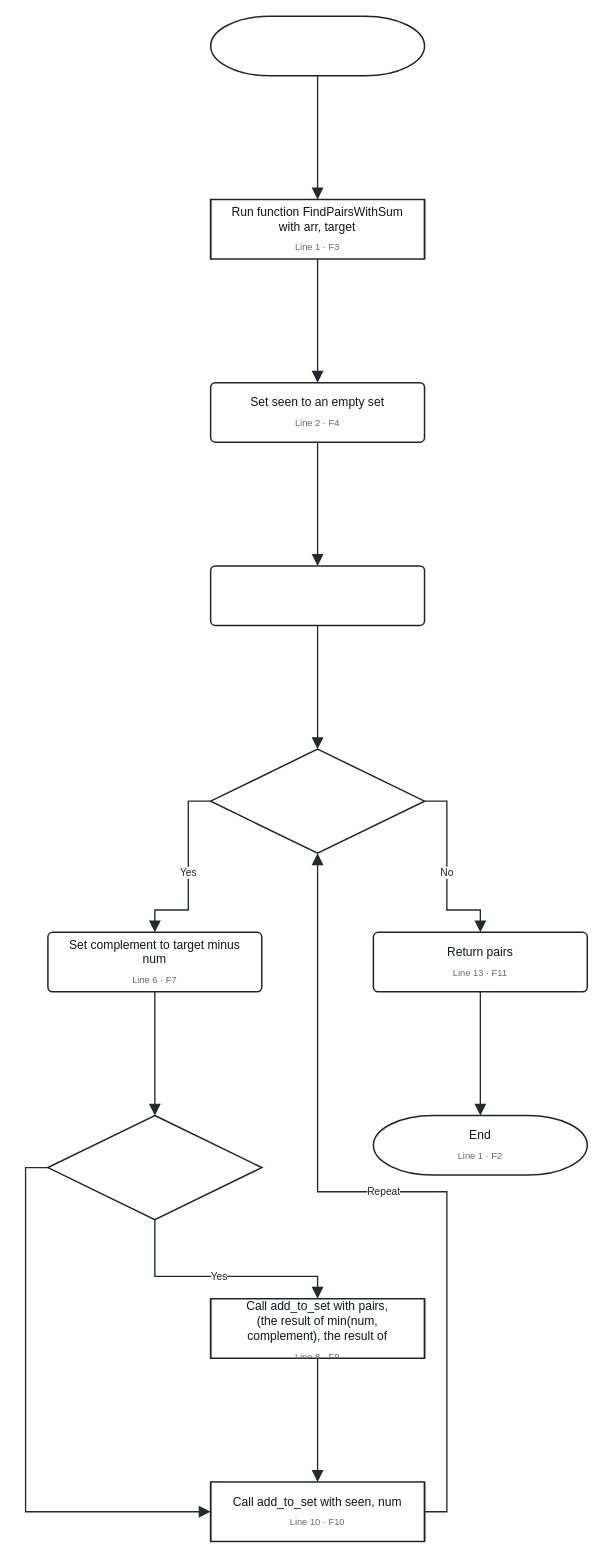
Image size: 605x1559. Some labels were removed from this diagram. The shapes that lost their labels are listed below. From the top down, each one's centre as x and y in pixels, then its label:
(x=317, y=45): Start Line 1 · F1
(x=317, y=595): Set pairs to an empty set Line 3 · F5
(x=317, y=801): For each num in arr Line 5 · F6
(x=154, y=1167): Complement is contained in seen? Line 7 · F8
